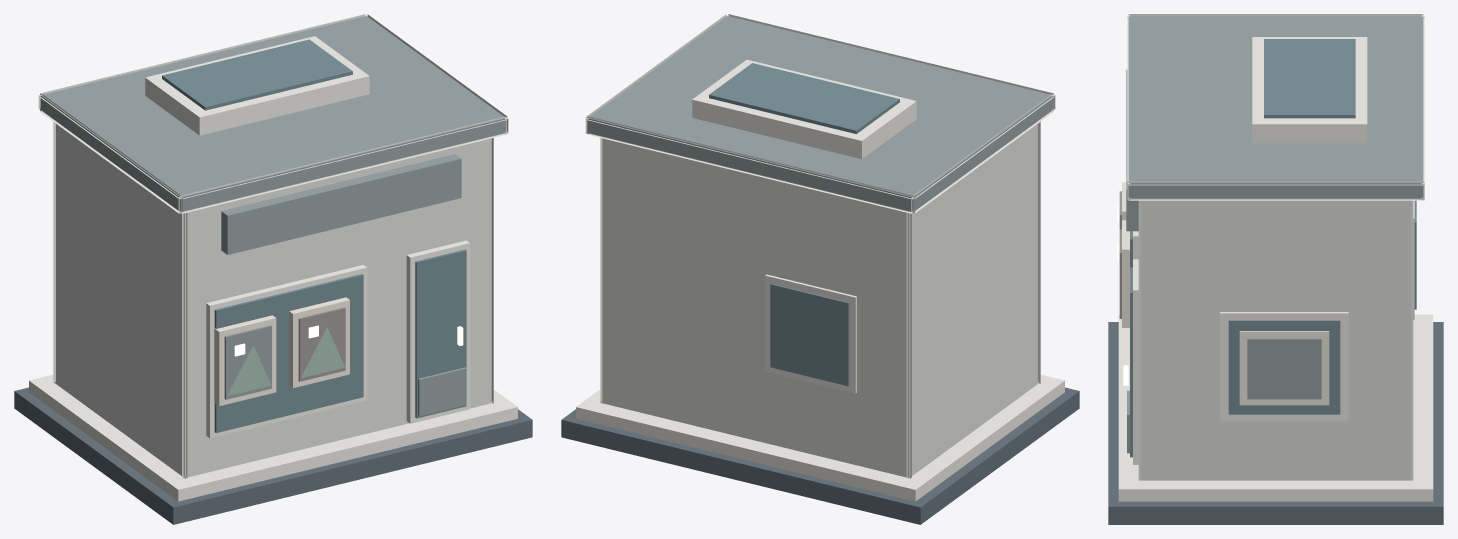
File: glb-gallery.glb
3 renders of one model, left to right at view 1: azimuth 30°, elevation 25°; view 2: azimuth 150°, elevation 25°; view 3: azimuth 270°, elevation 25°, orthographic. The views are drawn at different scales.
Parts seen in each view (by area): view 1: 03 Photo Gallery; view 2: 03 Photo Gallery; view 3: 03 Photo Gallery.
Part boxes in pixels (x1,y1,x2,y2): 03 Photo Gallery: (14, 14, 532, 524); 03 Photo Gallery: (561, 14, 1079, 524); 03 Photo Gallery: (1108, 14, 1443, 524).
Bounding box in the file's own units: 2.58 × 2.32 × 1.98.
